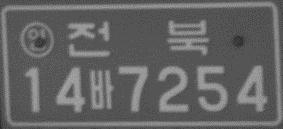1: (21, 64, 51, 114)
2: (156, 63, 189, 113)
4: (236, 64, 268, 112), (55, 65, 85, 113)
5: (196, 65, 229, 113)
7: (117, 64, 149, 113)
바: (88, 67, 114, 110)
영: (18, 20, 54, 59)
전북_D: (66, 19, 210, 59)
